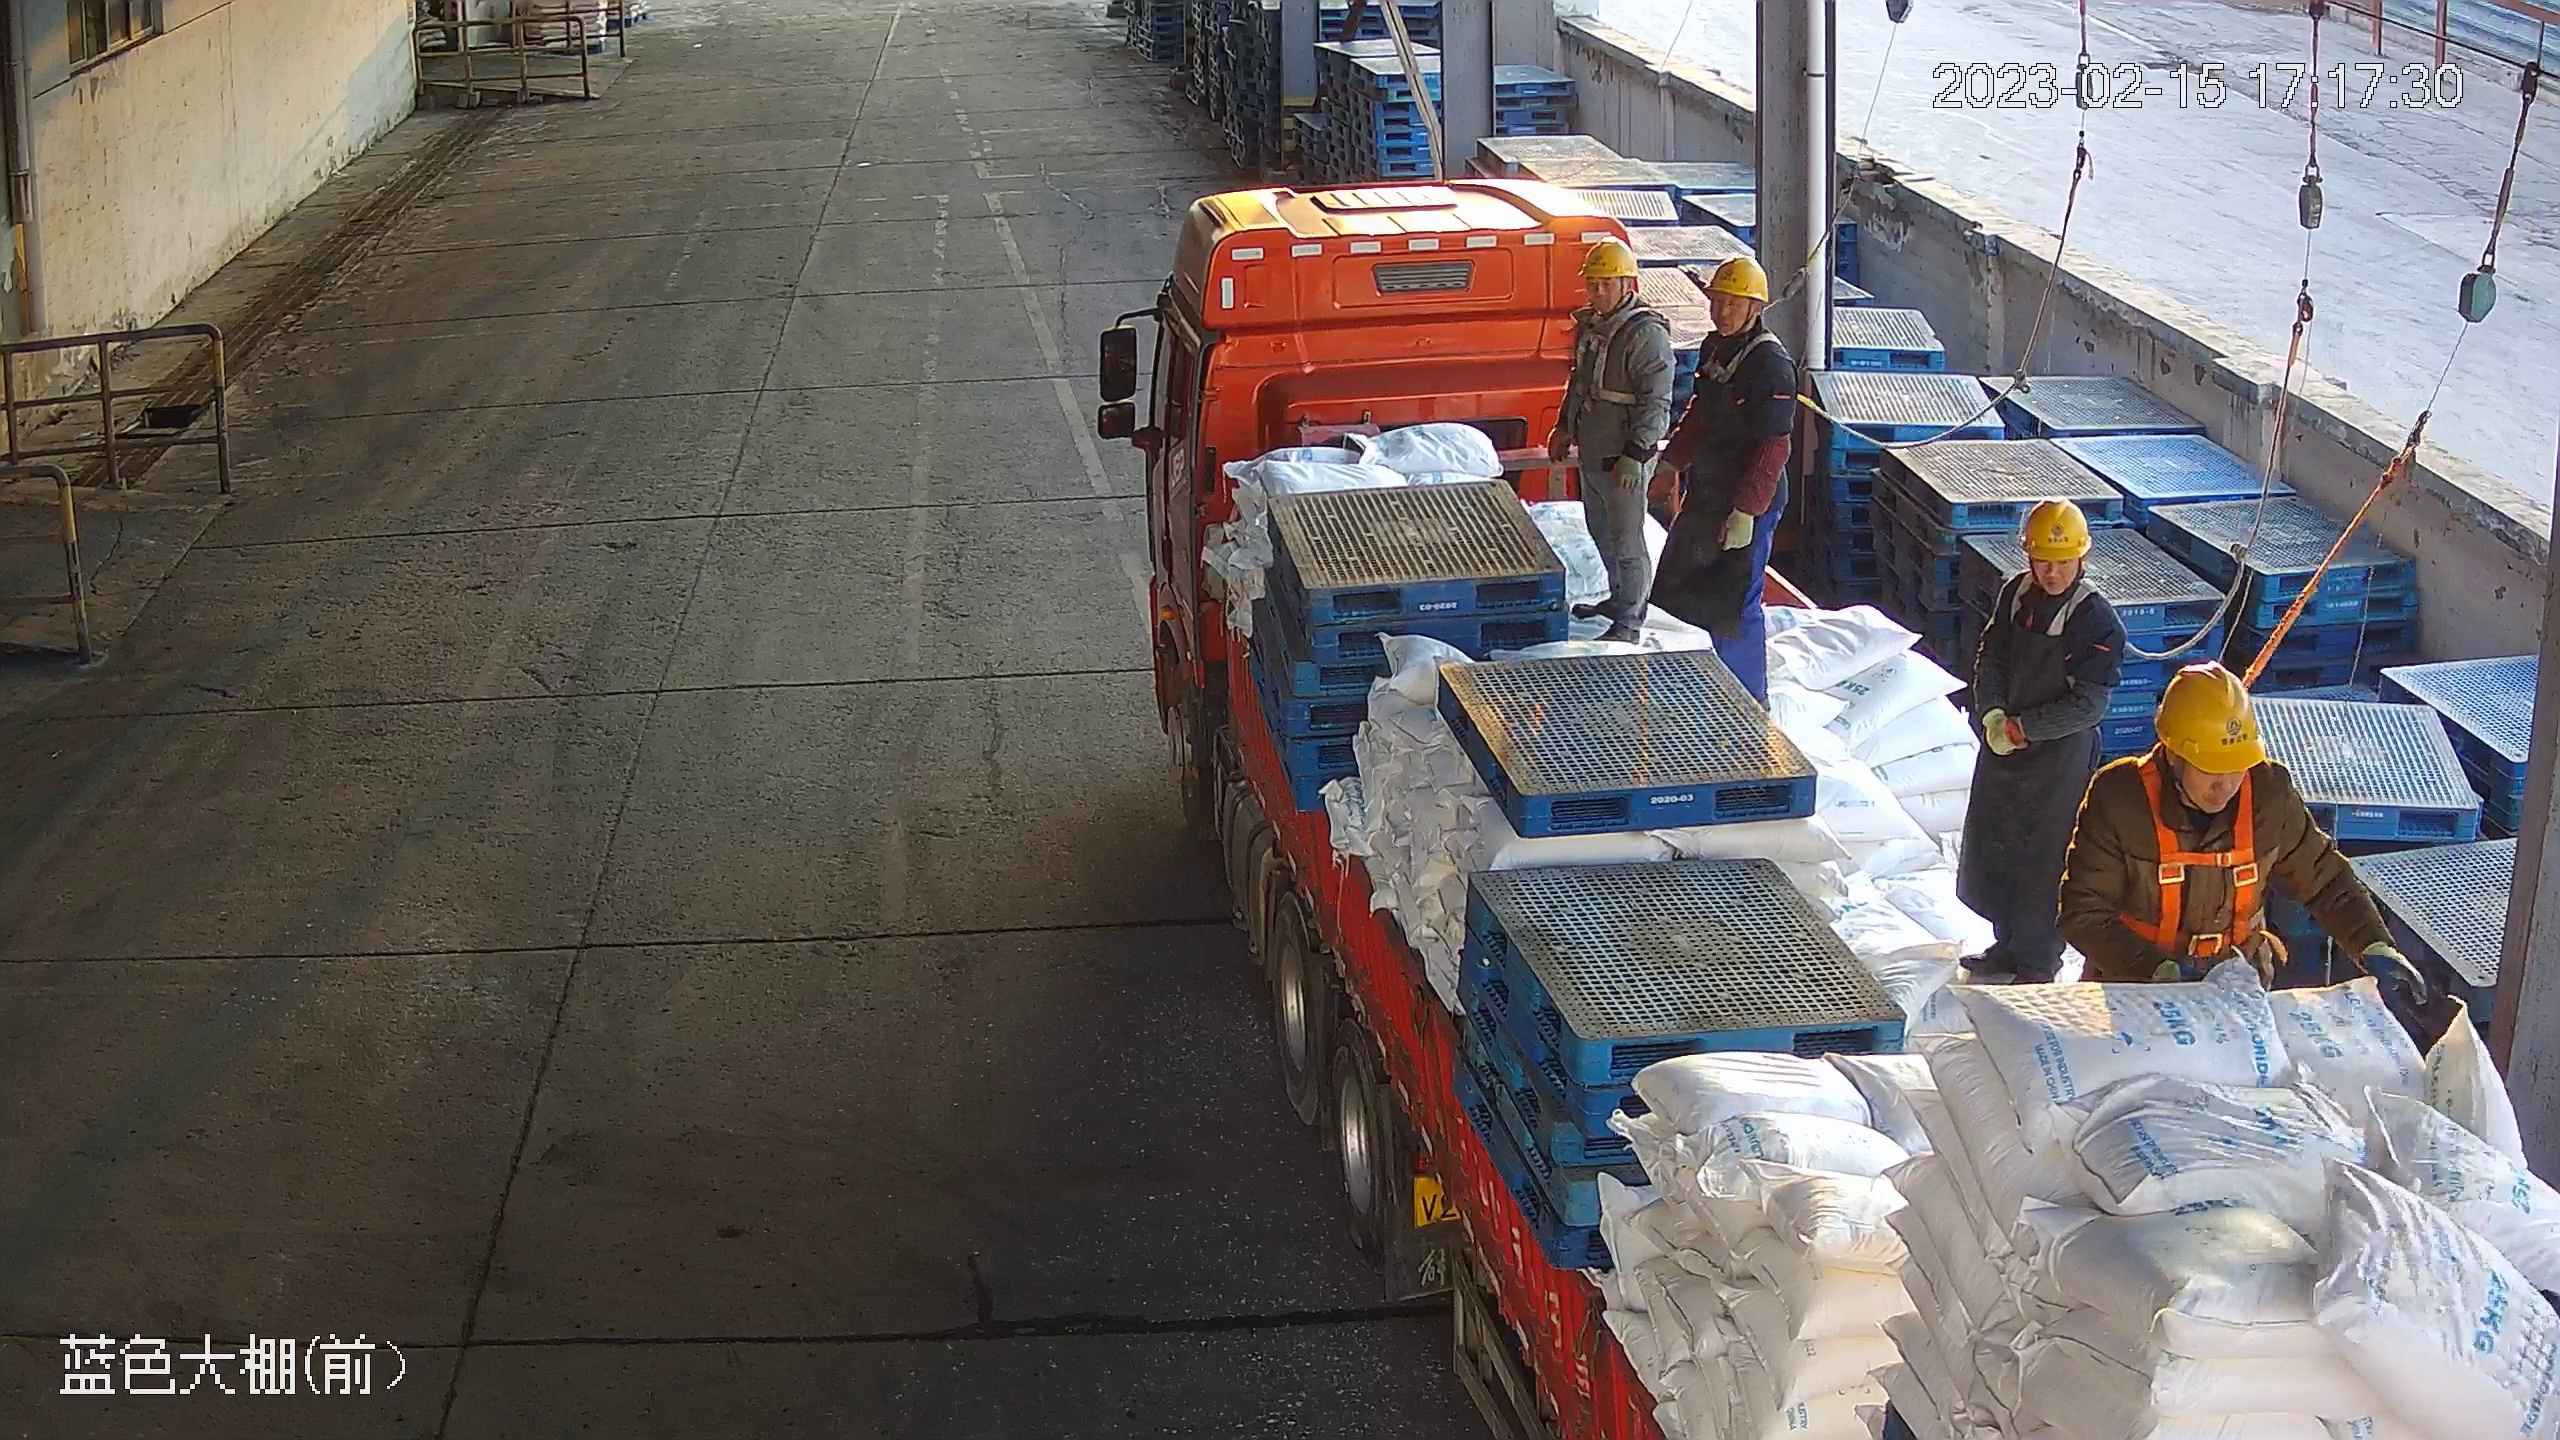belt: (2105, 755, 2281, 947), (1564, 295, 1651, 418), (2005, 555, 2099, 638), (1694, 338, 1798, 392)
head: (2092, 651, 2312, 842), (1957, 499, 2116, 688), (1681, 244, 1805, 397), (1561, 220, 1673, 373)
helmet: (2162, 657, 2277, 782), (1709, 244, 1785, 307), (2018, 499, 2088, 555), (1575, 234, 1640, 288)
people: (1955, 488, 2116, 999), (1661, 244, 1805, 723), (1559, 227, 1668, 642)
truck: (1099, 153, 2560, 1440)
